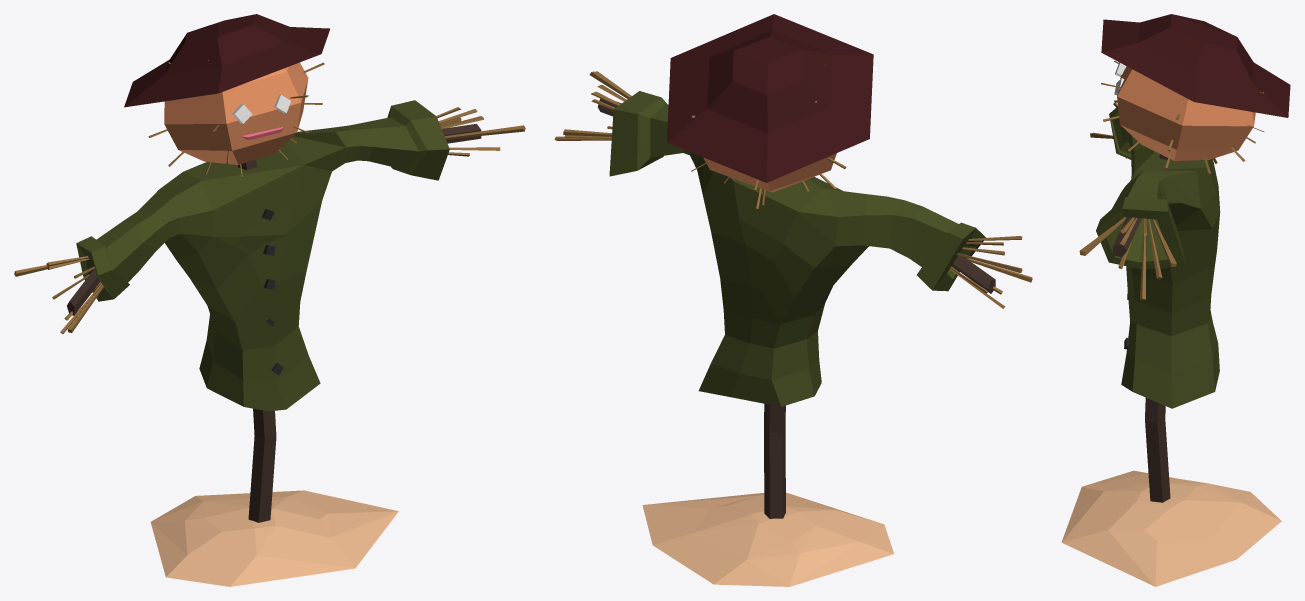
Rendered from ScareCrow.fbx.
3 views of the same model, side by side, from view 1: azimuth 30°, elevation 25°; view 2: azimuth 150°, elevation 25°; view 3: azimuth 270°, elevation 25° (orthographic). The views are drawn at different scales.
Visible parts, largest first — view 1: ScareCrow; view 2: ScareCrow; view 3: ScareCrow.
Part boxes in pixels (x1=…): ScareCrow: x1=14, y1=14, x2=525, y2=586; ScareCrow: x1=554, y1=14, x2=1032, y2=586; ScareCrow: x1=1061, y1=14, x2=1290, y2=586.
Bounding box in the file's own units: 2.23 × 2.29 × 0.9584.
